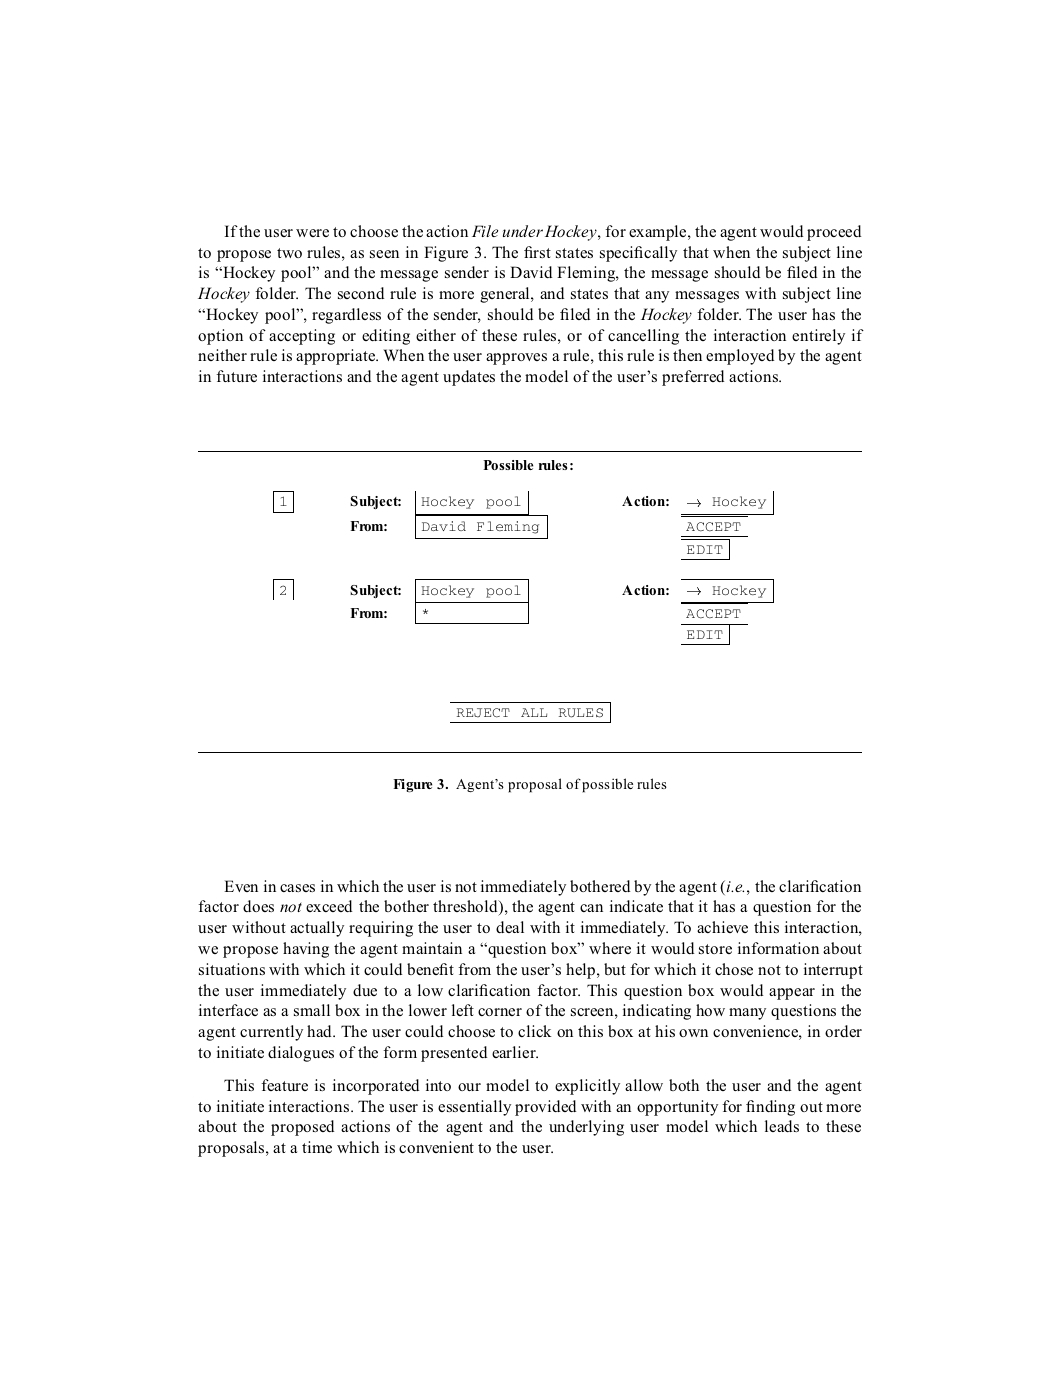figure: (198, 451, 862, 752)
